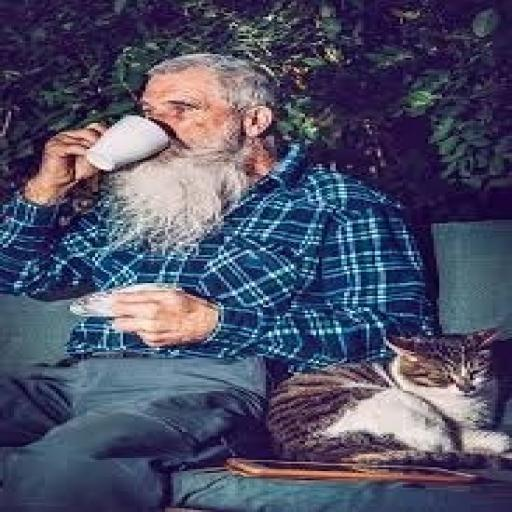drinking: (81, 112, 174, 171)
